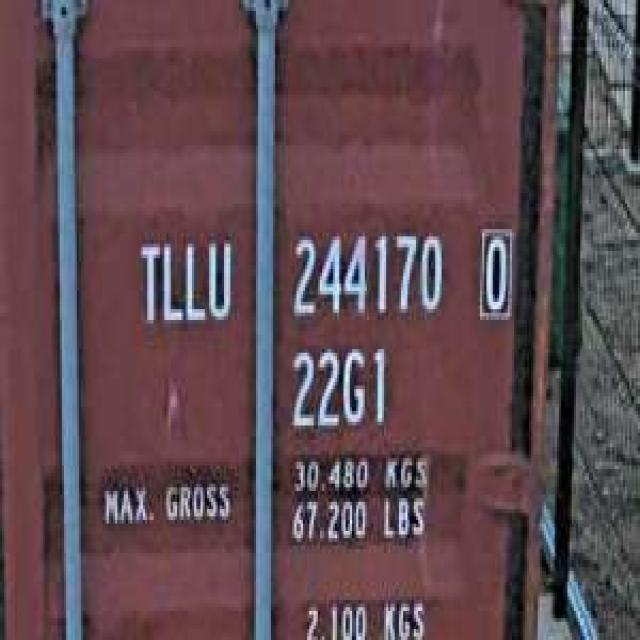dv: (474, 214, 514, 324)
owner: (132, 226, 237, 334)
serial: (286, 218, 448, 327)
size: (284, 334, 392, 436)
